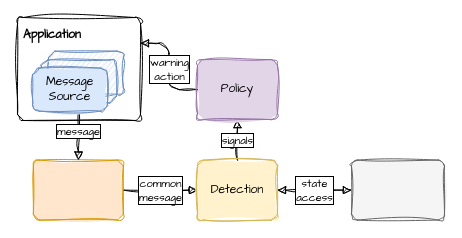
The diagram is 462 pixels wide and 238 high, and some of its shapes have lost their labels. The box of each missing label's shape, as (x1, y1, x2, y2) in pixels:
Adapter: (32, 159, 123, 220)
Memory: (350, 159, 444, 220)
